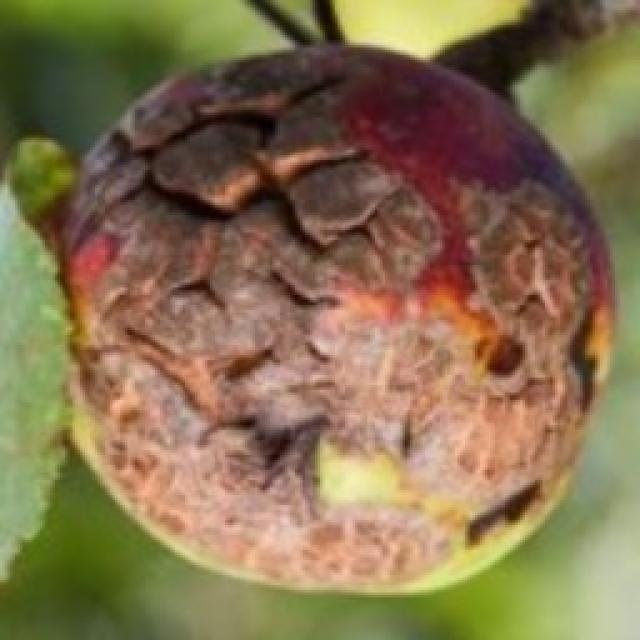defective: (10, 30, 618, 598)
